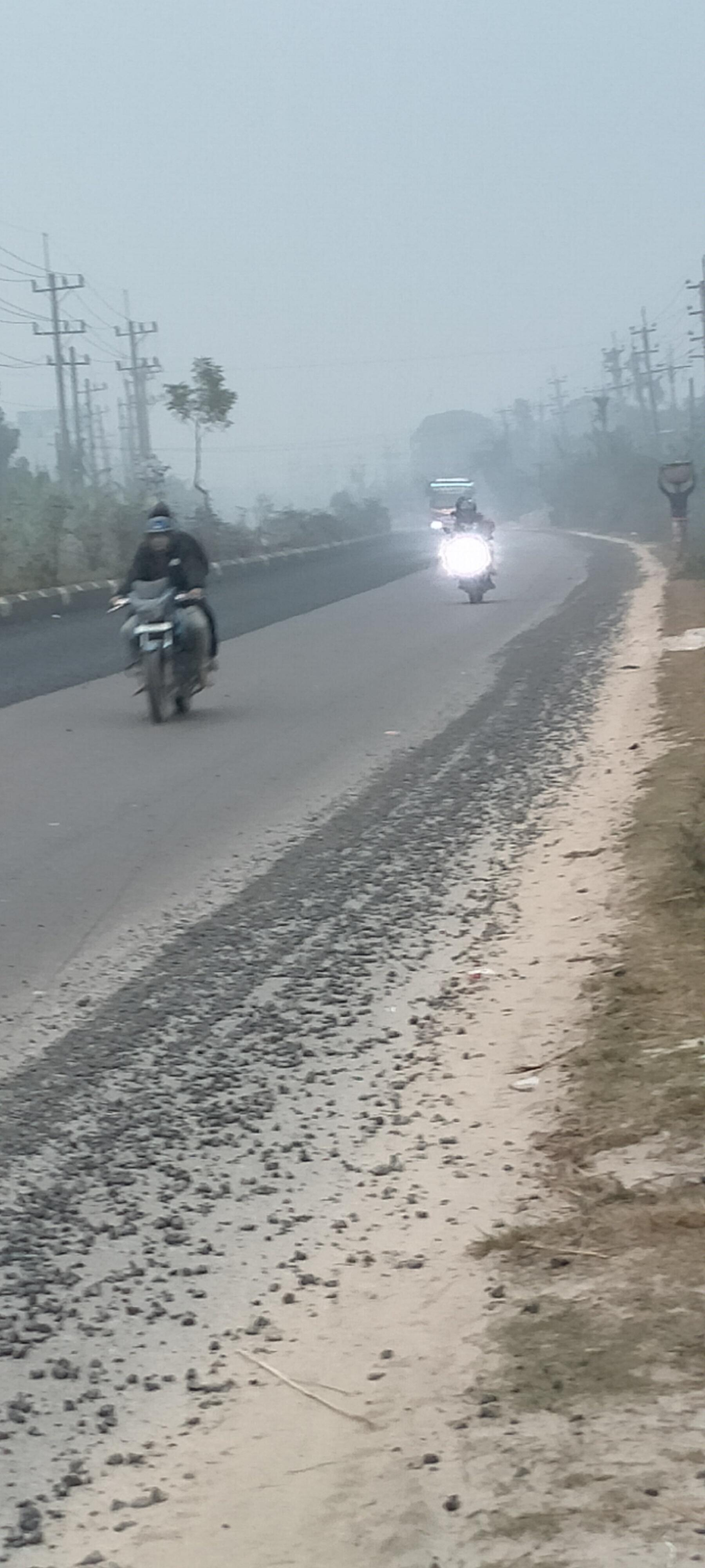Bike: (121, 495, 230, 735), (439, 496, 509, 599)
Bus: (423, 465, 486, 549)
